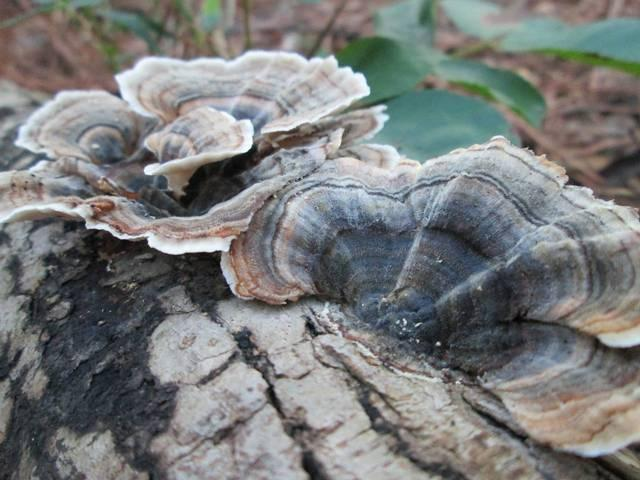poisonous_mushroom: (0, 48, 639, 460)
